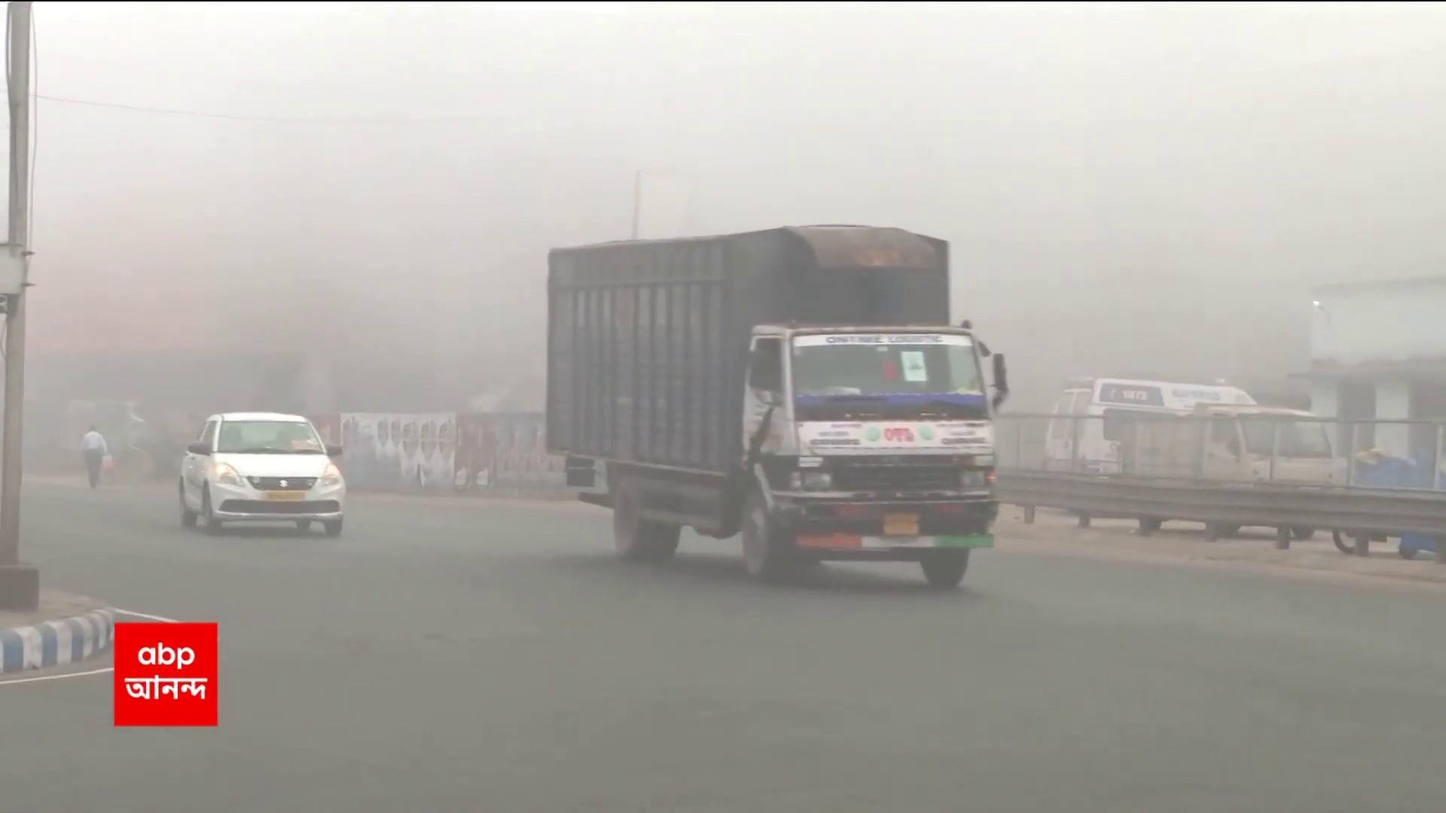Car: (178, 413, 349, 542)
Truck: (538, 225, 1004, 593)
